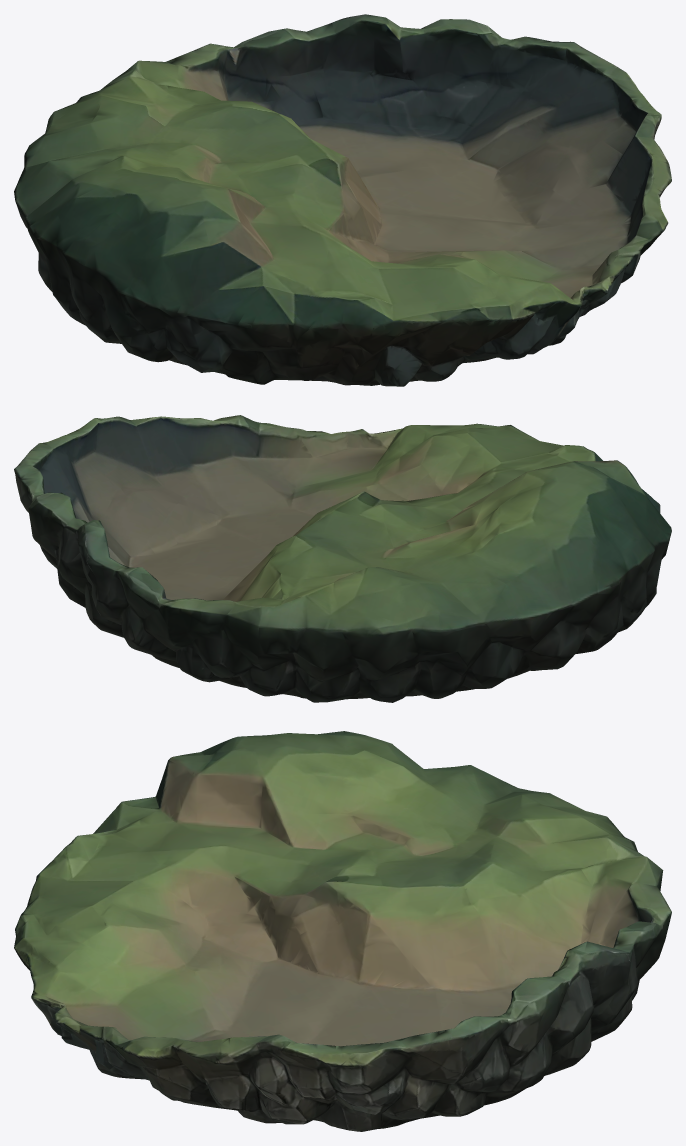
File: base_crater.glb
3 renders of one model, top to bottom at view 1: azimuth 30°, elevation 25°; view 2: azimuth 150°, elevation 25°; view 3: azimuth 270°, elevation 25°, orthographic. The views are drawn at different scales.
Visible parts, largest first — view 1: tripo_node_95726892-3e19-4e2b-8da0-0f6207139107; view 2: tripo_node_95726892-3e19-4e2b-8da0-0f6207139107; view 3: tripo_node_95726892-3e19-4e2b-8da0-0f6207139107.
Boxes of the visible parts, x1=… form: tripo_node_95726892-3e19-4e2b-8da0-0f6207139107: x1=14, y1=14, x2=671, y2=386; tripo_node_95726892-3e19-4e2b-8da0-0f6207139107: x1=14, y1=415, x2=671, y2=702; tripo_node_95726892-3e19-4e2b-8da0-0f6207139107: x1=14, y1=731, x2=671, y2=1131.
Bounding box in the file's own units: 0.9807 × 0.2849 × 0.8871.
Materials: 1 (1 with a texture image).
